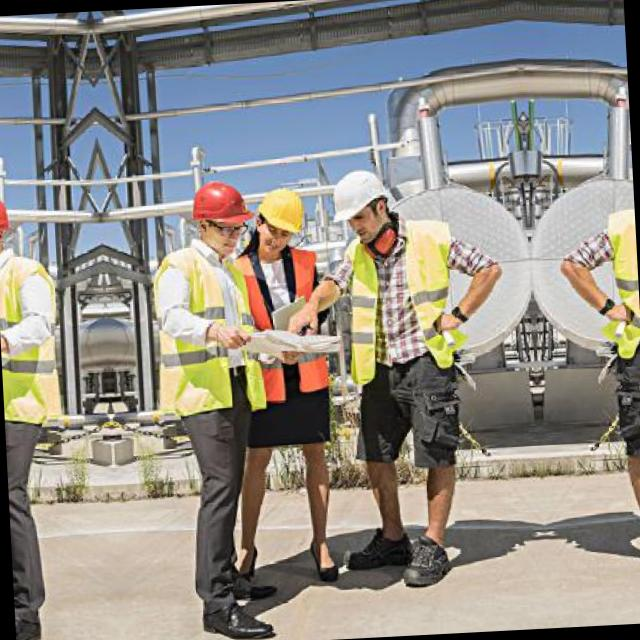helmet: (180, 163, 260, 259), (326, 156, 398, 261), (245, 178, 312, 254), (0, 175, 21, 270)
